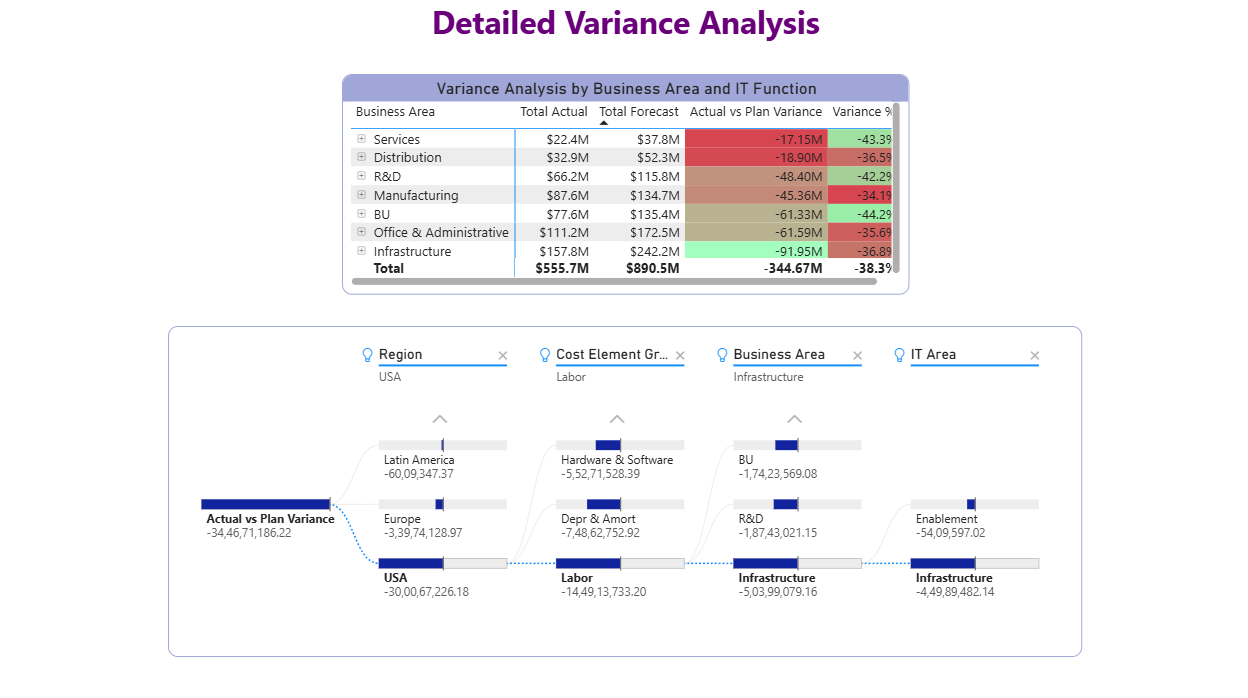

The dashboard page shown, as its layout file describes it:
{"tool":"powerbi","page":{"name":"Detailed Analysis","canvas":[1280,720],"ordinal":1},"visuals":[{"type":"pivotTable","title":"Variance Analysis by Business Area and IT Function","fields":{"Rows":["Data.Business Area","Data.Region","Data.IT Area"],"Values":["Data.Total Actual","Data.Total Forecast","Data.Actual vs Plan Variance","Data.Variance %"]},"box":[352,80,576,224],"z":0},{"type":"decompositionTreeVisual","fields":{"Analyze":["Data.Actual vs Plan Variance"],"ExplainBy":["Data.Region","Data.Cost Element Group","Data.Business Area","Data.IT Area"]},"box":[176,336,928,336],"z":1},{"type":"textbox","box":[416,0,448,64],"z":2}]}

Visuals, with their boxes in screenshot pixels (x1, y1, x2, y2), scaled from the page's 1280x720 canvas onto the 1248x698 screenshot:
"Variance Analysis by Business Area and IT Function" pivotTable: l=343, t=78, r=905, b=295
decompositionTreeVisual - Data.Actual vs Plan Variance x Data.Region: l=172, t=326, r=1076, b=651
textbox: l=406, t=0, r=842, b=62
